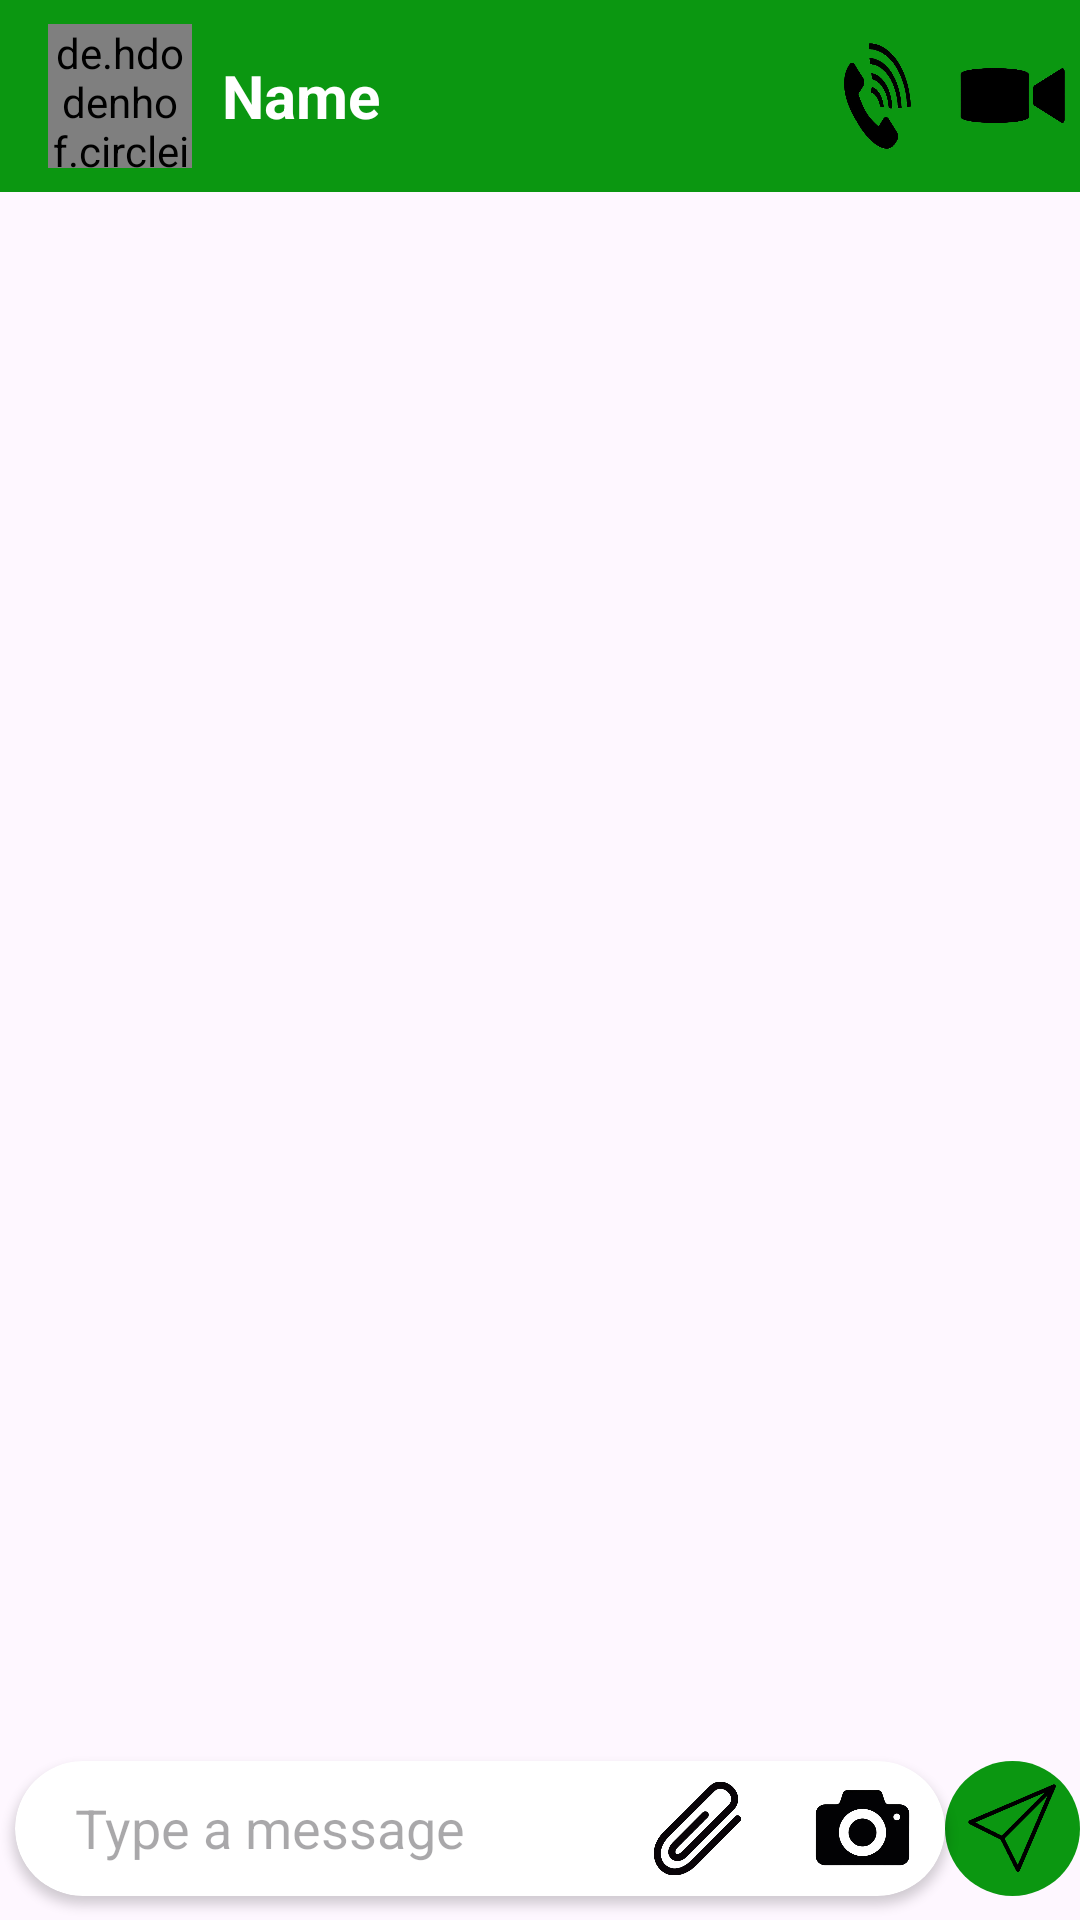

Locate icon controls on the screen. Image size 1080x1920, boxes as (x1, y1, x2, y2).
attachment: (654, 1782, 741, 1875)
camera: (816, 1790, 909, 1866)
send: (945, 1761, 1080, 1896)
Video Call: (960, 68, 1065, 123)
Voice Call: (844, 43, 911, 149)
